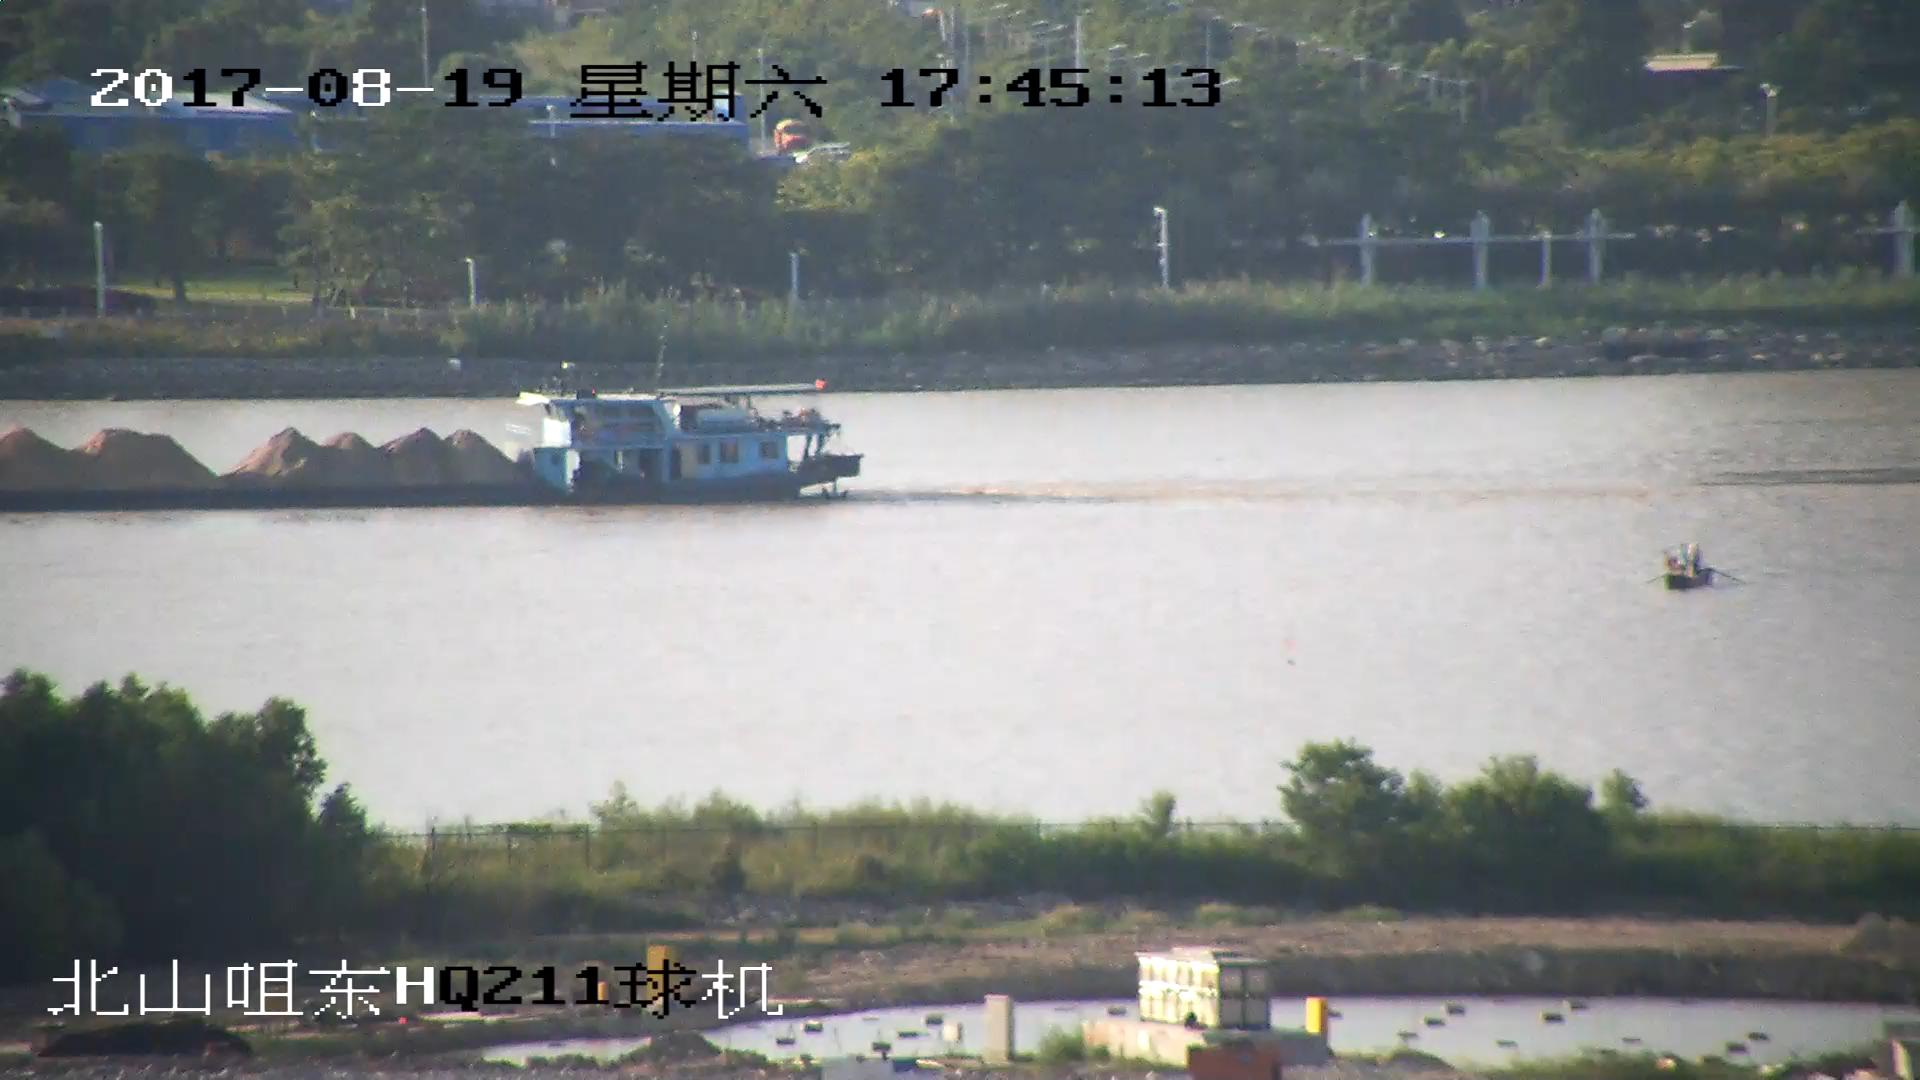fishing boat: (1660, 534, 1716, 590)
ore carrier: (1, 349, 863, 512)
